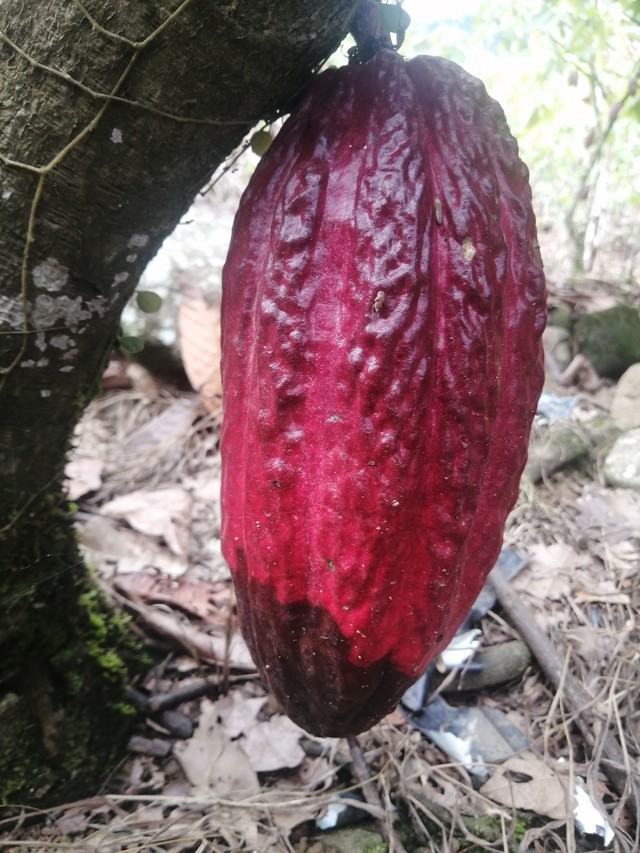phytophthora palmivora: (203, 38, 562, 743)
